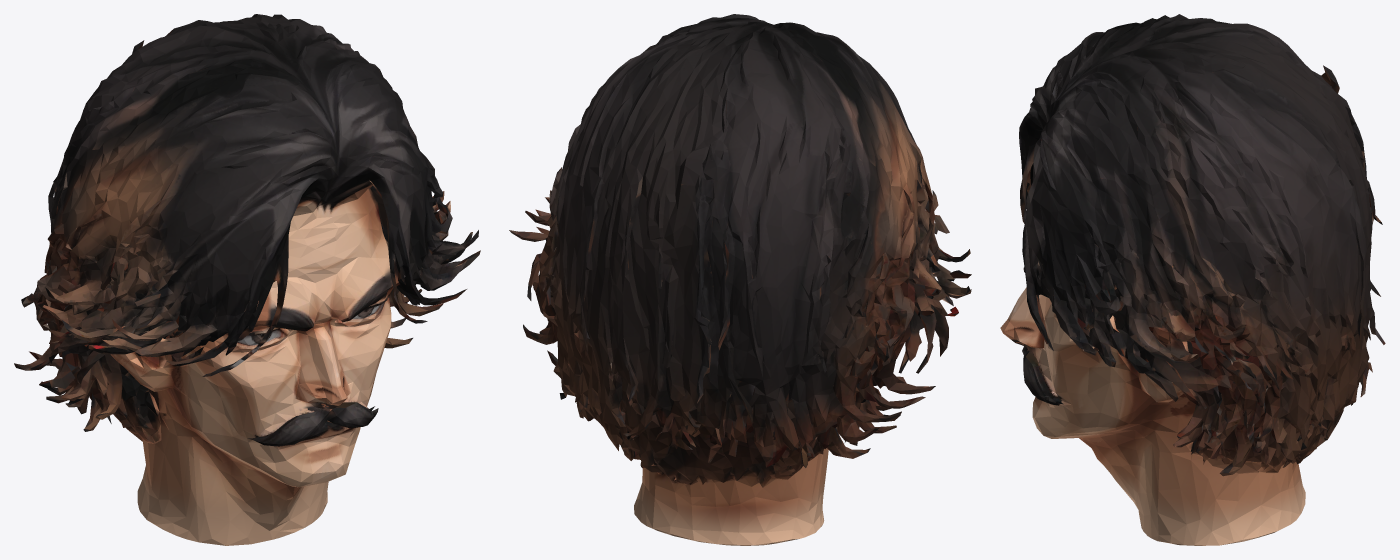
File: side_daidoji_general_repaired_atlas.glb
The picture shows the model from 3 angles, left to right: view 1: azimuth 30°, elevation 25°; view 2: azimuth 150°, elevation 25°; view 3: azimuth 270°, elevation 25°; orthographic projection. The views are drawn at different scales.
Visible parts, largest first — view 1: temp_mesh.ply; view 2: temp_mesh.ply; view 3: temp_mesh.ply.
Boxes of the visible parts, <box> form: temp_mesh.ply: <box>14,14,480,545</box>; temp_mesh.ply: <box>509,14,971,545</box>; temp_mesh.ply: <box>1000,14,1385,545</box>.
Size of the model in its own units: 1.76 by 1.97 by 1.42.
1 material, 1 textured.
